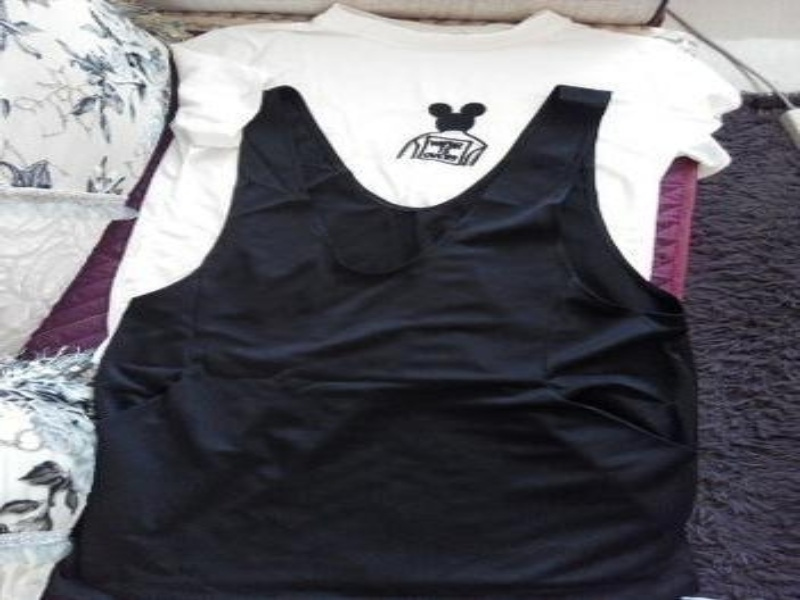short_sleeved_shirt: (87, 0, 748, 397)
vest_dress: (30, 81, 709, 599)
